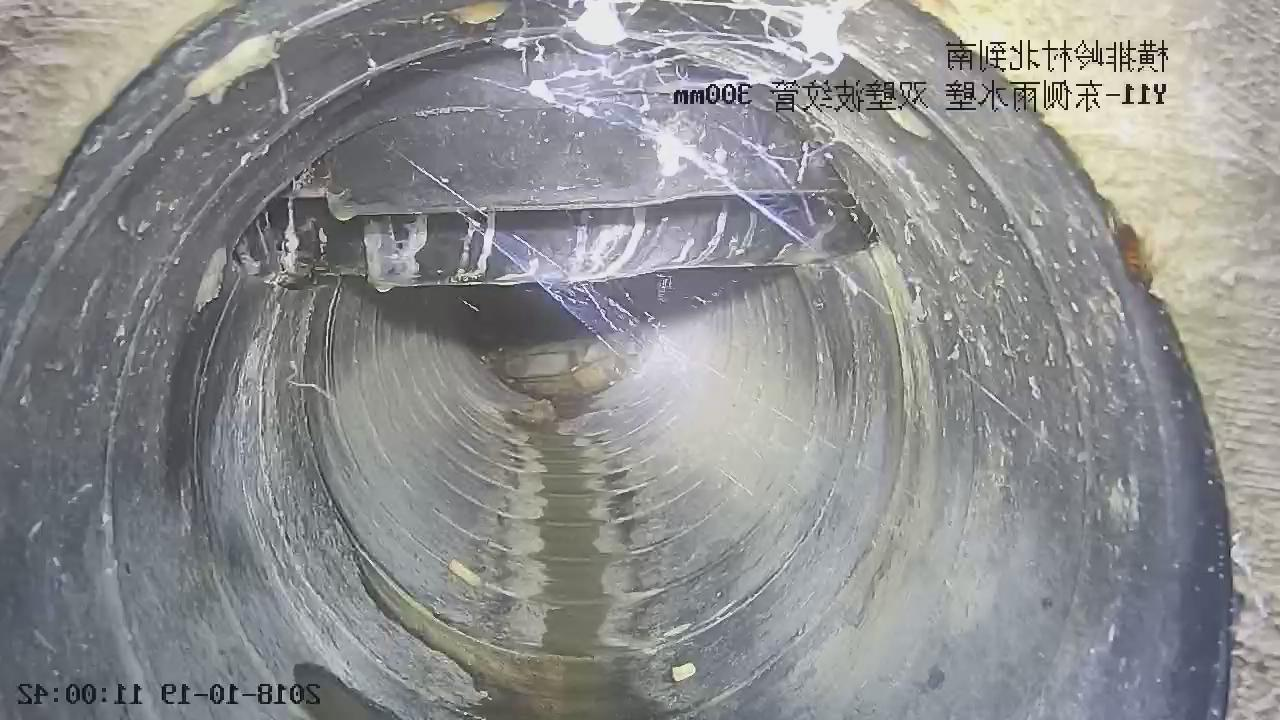YWCR: (234, 98, 878, 292)
